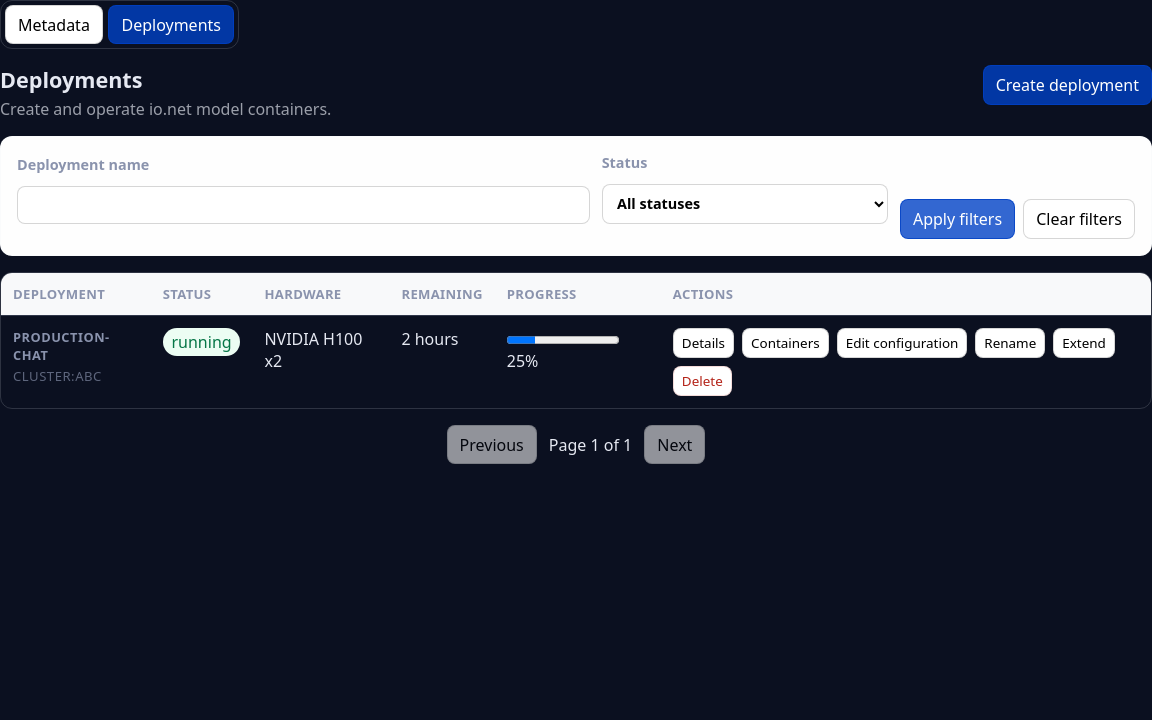
Scenario: ModelsView deployment workflows › distinguishes retryable container failures from an empty container list
Click the button "Containers": x=785, y=343 [742, 328, 829, 358]
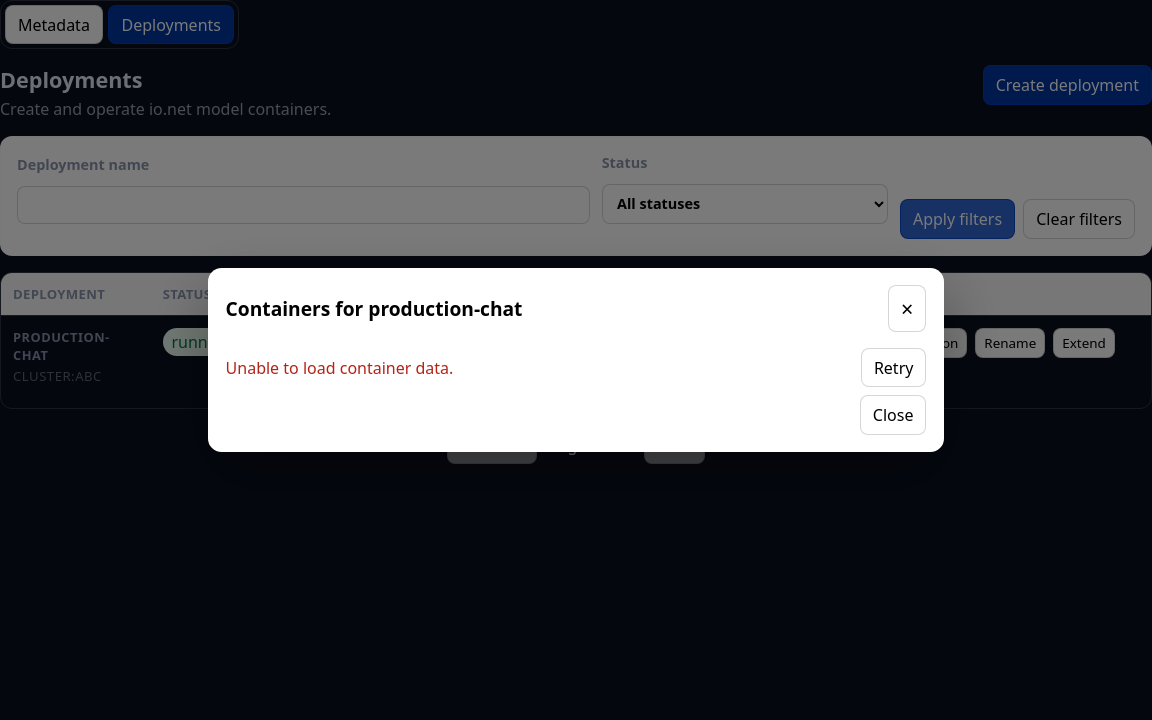
Result: the message shows "Unable to load container data." at [226, 356, 453, 378]
Click the button "Retry": x=894, y=367 [861, 348, 926, 387]
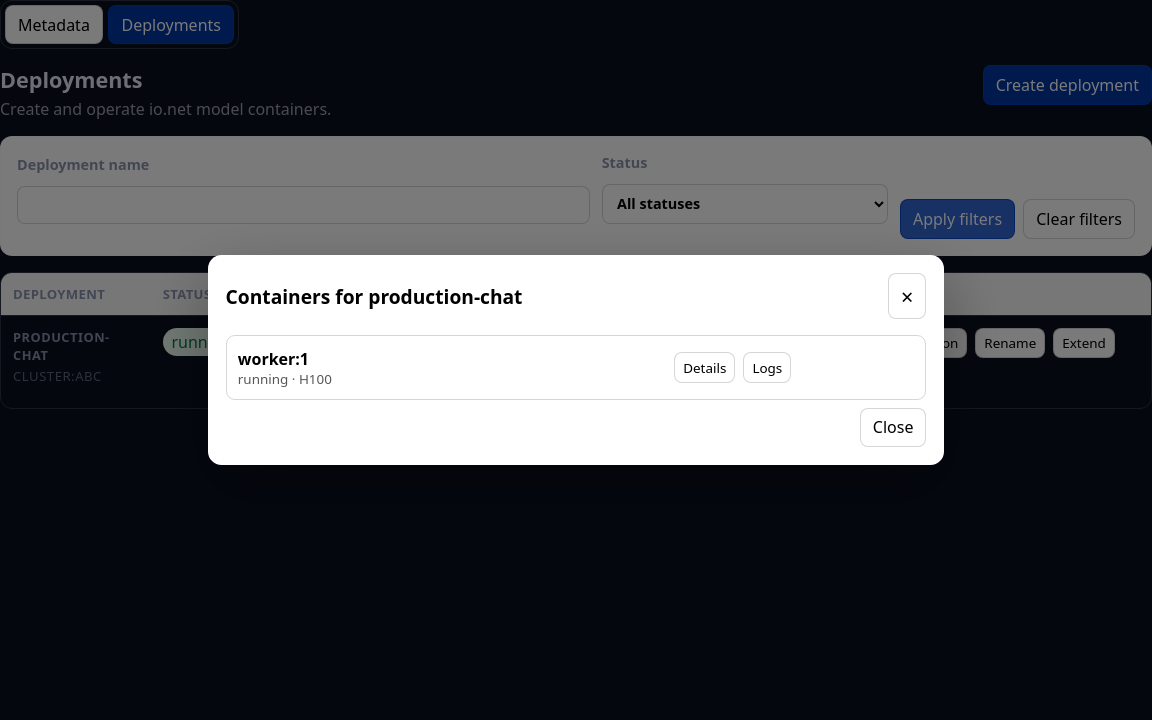
Result: the text "worker:1" is shown at [238, 348, 309, 370]
